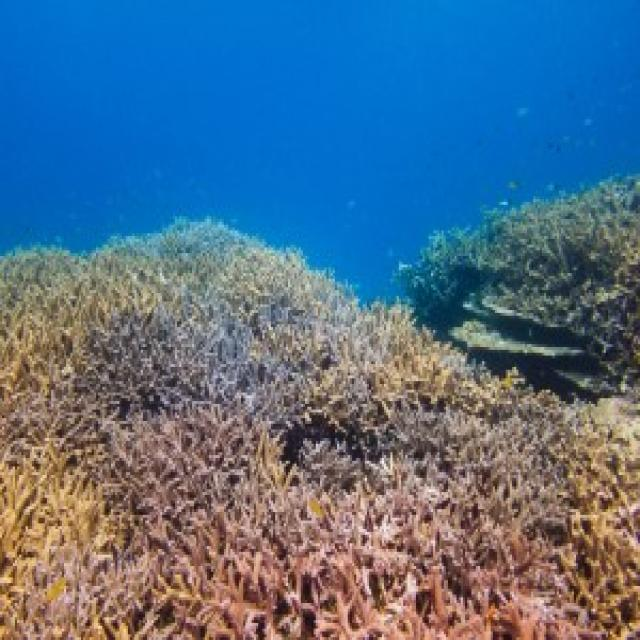Healthy: (1, 226, 639, 638), (398, 180, 639, 396)
